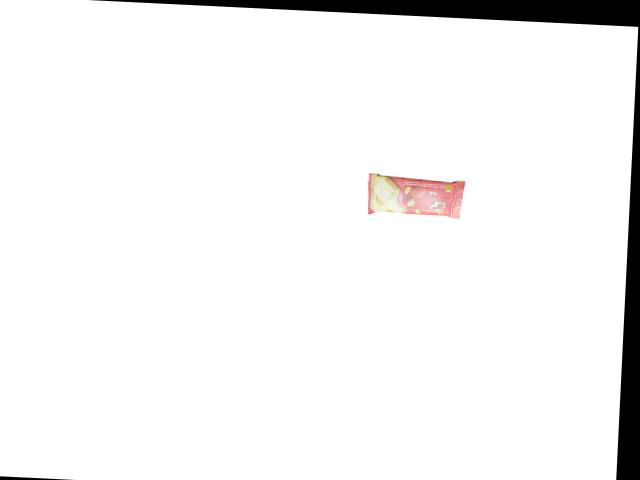chocolate: (366, 166, 472, 221)
